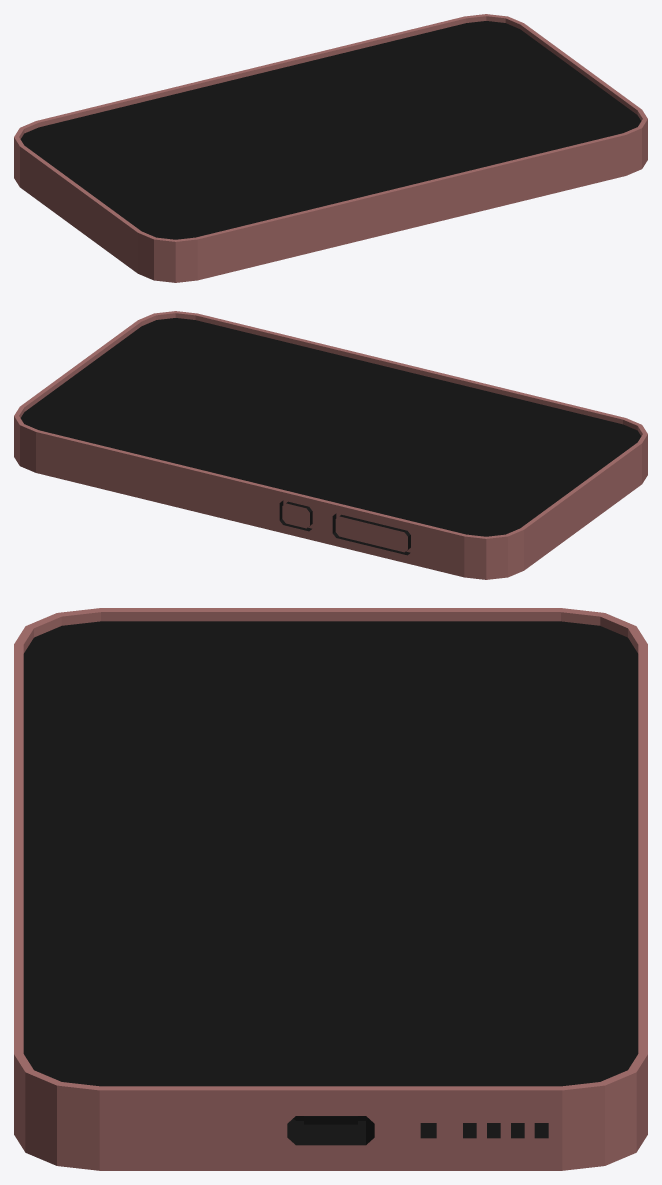
Rendered from phone.fbx.
3 renders of one model, top to bottom at view 1: azimuth 30°, elevation 25°; view 2: azimuth 150°, elevation 25°; view 3: azimuth 270°, elevation 25°, orthographic. The views are drawn at different scales.
Parts seen in each view (by area): view 1: Phone; view 2: Phone; view 3: Phone.
Part boxes in pixels (bbox=[...]): Phone: bbox=[14, 14, 647, 282]; Phone: bbox=[14, 311, 647, 579]; Phone: bbox=[14, 608, 647, 1170].
Bounding box in the file's own units: 360 × 28 × 200.
